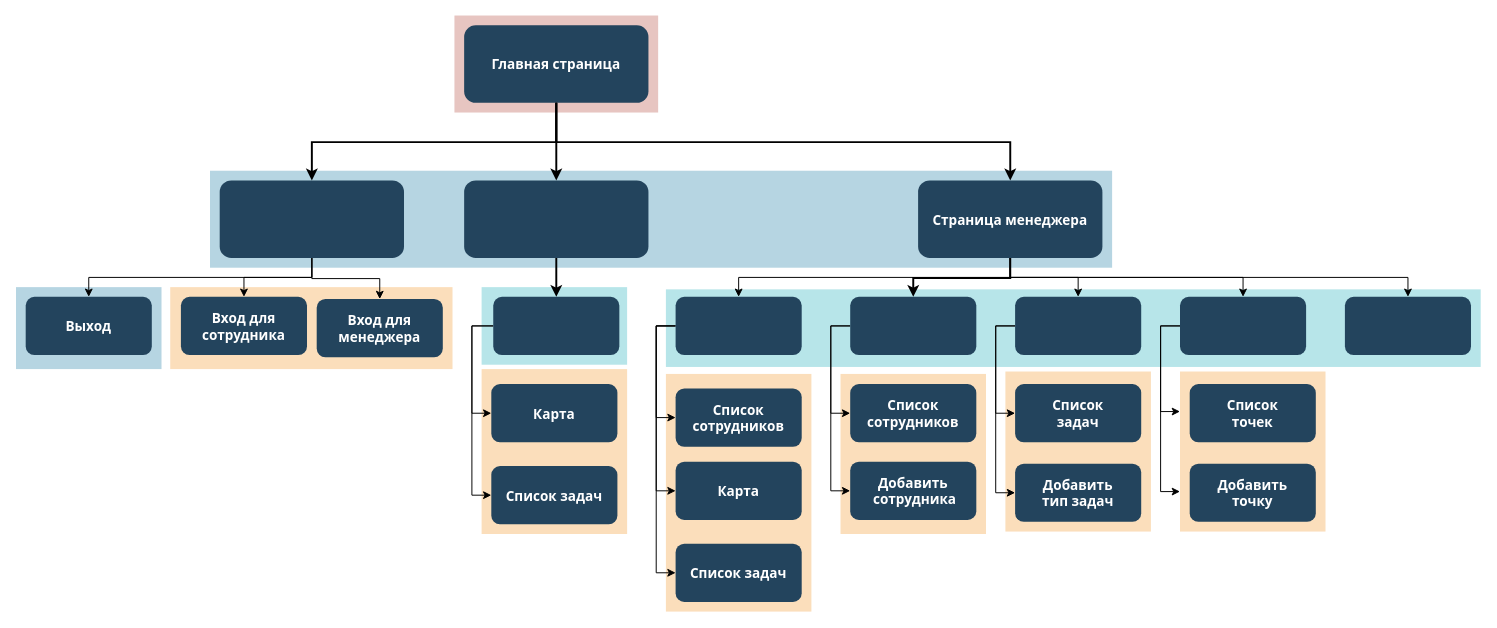
This 1497x628 diagram has some shape labels left out. The centre of each missing label's shape, as x and y in pixels:
"Авторизация" belongs at point (311, 219).
"Задачи" belongs at point (1078, 325).
"Прогресс сотрудника" belongs at point (556, 325).
"Прогресс сотрудников" belongs at point (738, 325).
"Сотрудники" belongs at point (913, 325).
"Страница сотрудника" belongs at point (556, 219).
"Точки" belongs at point (1243, 325).
"Эффективность сотрудников" belongs at point (1407, 325).
